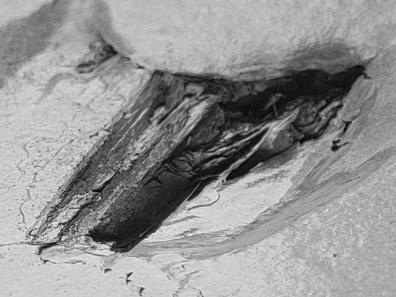paint-off: (0, 1, 396, 297)
